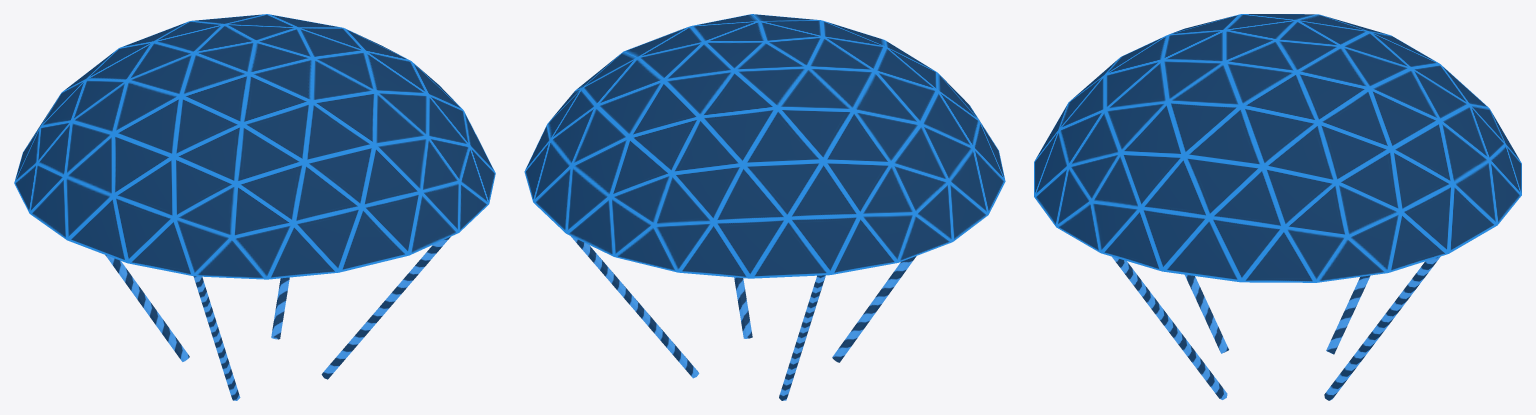
The model's file is parachute_space.glb.
3 views of the same model, side by side, from view 1: azimuth 30°, elevation 25°; view 2: azimuth 150°, elevation 25°; view 3: azimuth 270°, elevation 25° (orthographic). The views are drawn at different scales.
Parts seen in each view (by area): view 1: parachute.002, rope3, rope4, rope2, rope1; view 2: parachute.002, rope1, rope2, rope4, rope3; view 3: parachute.002, rope1, rope3, rope2, rope4.
Boxes of the visible parts, bbox=[...] form: parachute.002: bbox=[14, 14, 495, 279]; rope3: bbox=[321, 237, 450, 379]; rope4: bbox=[105, 255, 189, 361]; rope2: bbox=[193, 276, 240, 400]; rope1: bbox=[271, 277, 289, 339]; parachute.002: bbox=[524, 14, 1005, 278]; rope1: bbox=[571, 236, 699, 378]; rope2: bbox=[832, 256, 916, 362]; rope4: bbox=[779, 275, 825, 400]; rope3: bbox=[734, 277, 752, 338]; parachute.002: bbox=[1034, 14, 1521, 282]; rope1: bbox=[1324, 256, 1440, 400]; rope3: bbox=[1112, 256, 1227, 399]; rope2: bbox=[1185, 274, 1228, 353]; rope4: bbox=[1326, 275, 1370, 354].
Size of what is drawn, in the model's own units: 3.58 by 2.72 by 3.57.
1 material, 1 textured.
